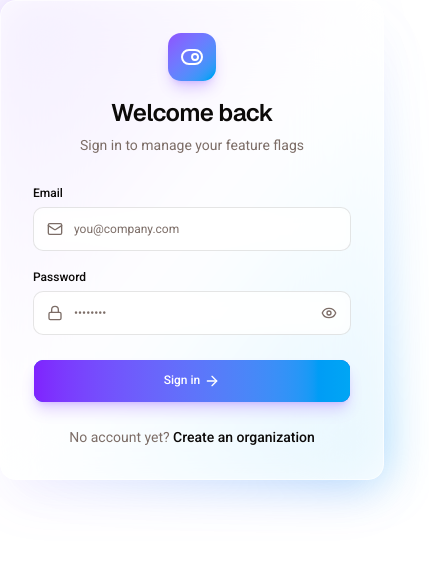
Test: LoginForm › shows the error and keeps the email after a failed sign-in
This screenshot has width=429, height=587.
Type "me@acme.com" into the field labelled "Email" at (192, 229), box [33, 207, 351, 251]
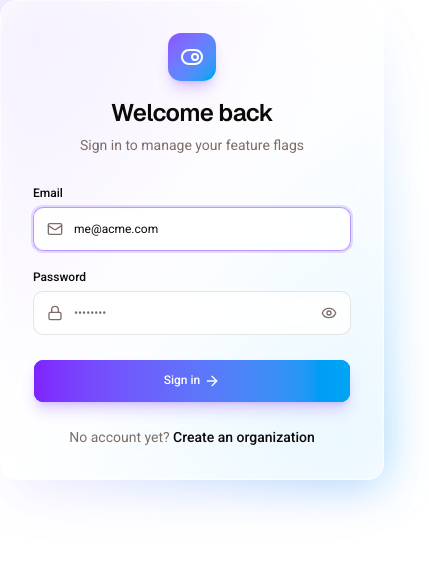
Type "secret-123" into the password field labelled "Password" at (192, 313), box [33, 291, 351, 335]
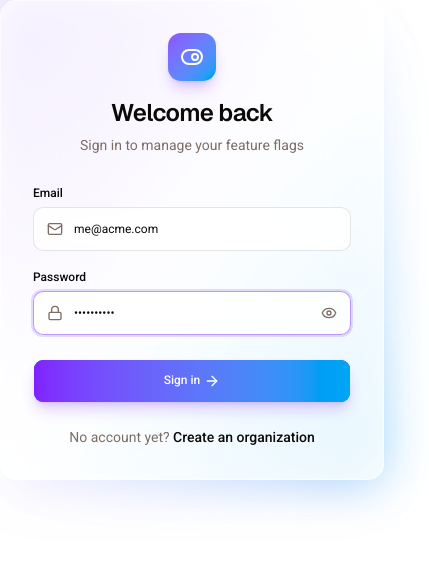
Click the button "Sign in" at (192, 381), box [33, 359, 351, 403]
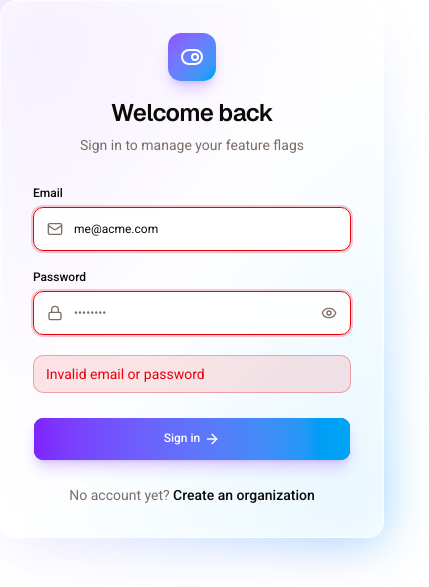
Now the message reads "Invalid email or password", box [46, 366, 205, 382]
